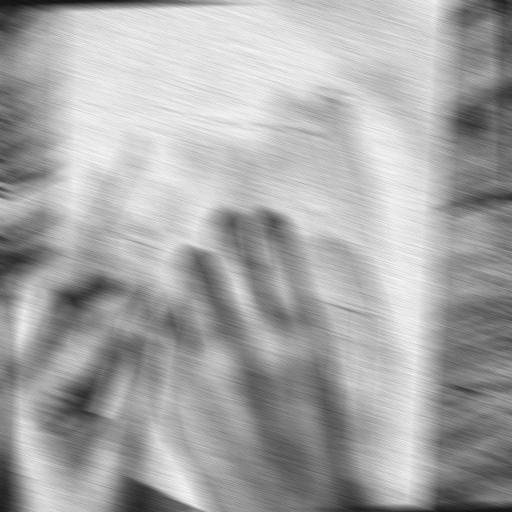bottom_right: (44, 425, 65, 450)
house: (61, 54, 404, 479)
